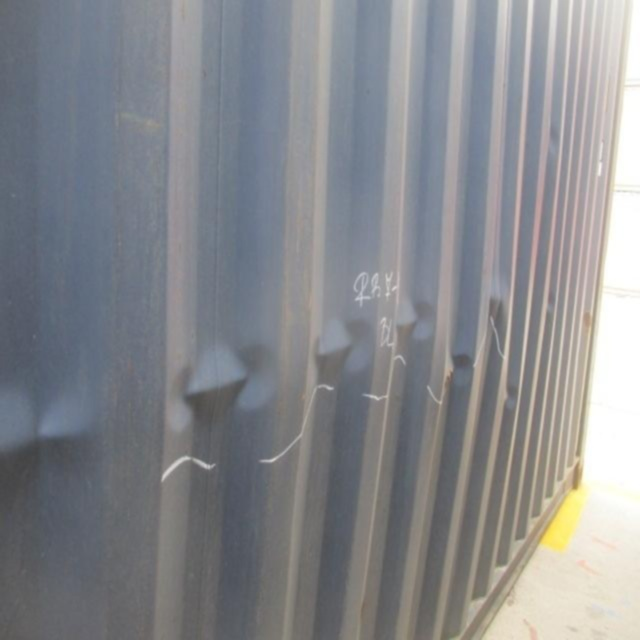Dent: (304, 279, 524, 417), (1, 384, 105, 516), (164, 341, 284, 436), (547, 126, 562, 158), (547, 293, 557, 320)
